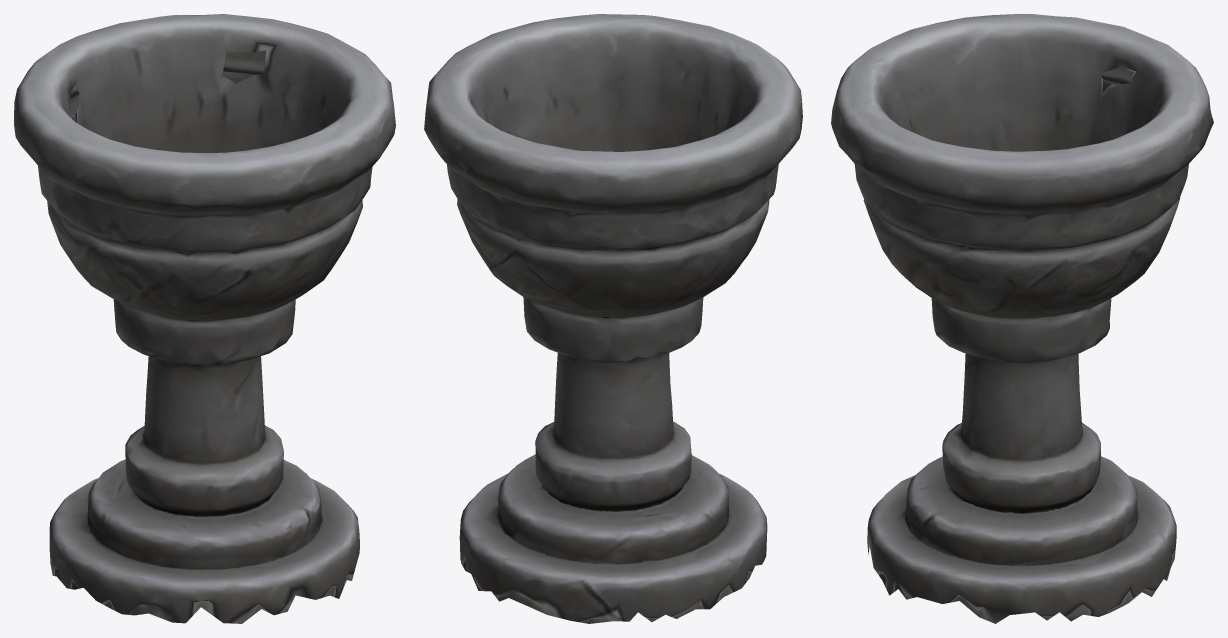
The model's file is crypt_ChaliceStand.glb.
3 renders of one model, left to right at view 1: azimuth 30°, elevation 25°; view 2: azimuth 150°, elevation 25°; view 3: azimuth 270°, elevation 25°, orthographic.
Parts seen in each view (by area): view 1: world; view 2: world; view 3: world.
Part boxes in pixels (x1,y1,x2,y2): world: [14, 14, 395, 623]; world: [424, 14, 802, 623]; world: [831, 14, 1213, 623].
Bounding box in the file's own units: 0.7269 × 0.9988 × 0.7271.
1 material, 1 textured.
